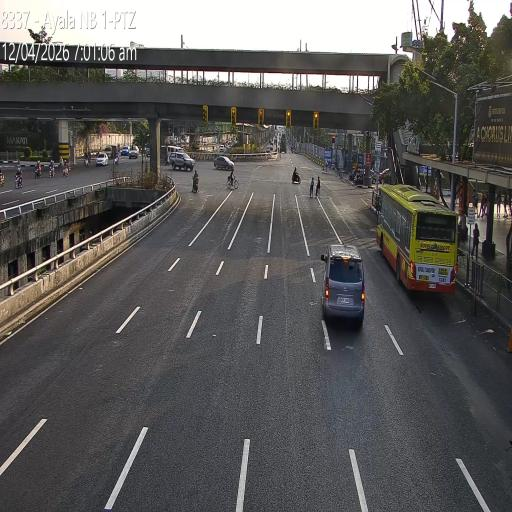Car: (318, 240, 369, 334), (169, 152, 195, 172), (165, 145, 184, 163), (214, 155, 235, 171), (95, 152, 109, 166), (129, 146, 138, 159), (120, 146, 130, 156)
Motor: (192, 172, 202, 195), (14, 166, 23, 189), (292, 166, 301, 186), (353, 168, 363, 186), (48, 158, 56, 180), (34, 159, 42, 180), (356, 169, 366, 185), (83, 150, 91, 169), (62, 160, 69, 178), (348, 168, 357, 180)
Not Accident: (14, 154, 72, 187), (82, 141, 141, 172), (162, 135, 197, 173)
